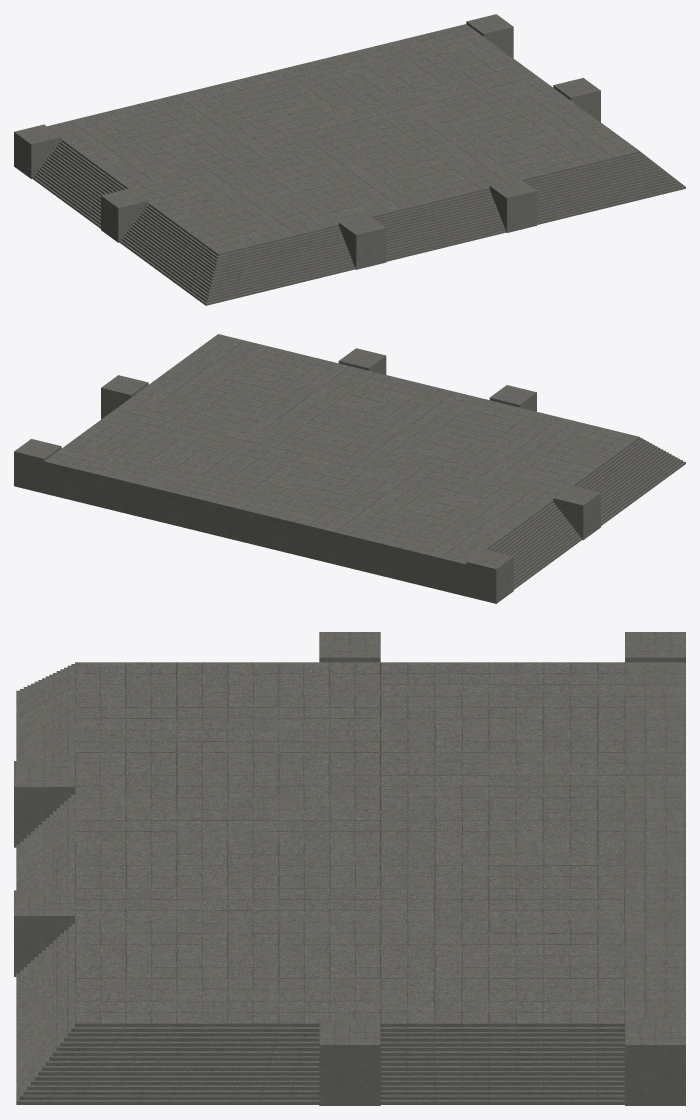
The model's file is basement_big.fbx.
The picture shows the model from 3 angles, top to bottom: view 1: azimuth 30°, elevation 25°; view 2: azimuth 150°, elevation 25°; view 3: azimuth 270°, elevation 25°; orthographic projection. The views are drawn at different scales.
Visible parts, largest first — view 1: basement_big; view 2: basement_big; view 3: basement_big.
Boxes of the visible parts, x1,y1,x2,y2 form: basement_big: (14,14,685,305); basement_big: (14,334,685,603); basement_big: (14,632,685,1105).
Size of the model in its own units: 8000 by 550 by 5500.
